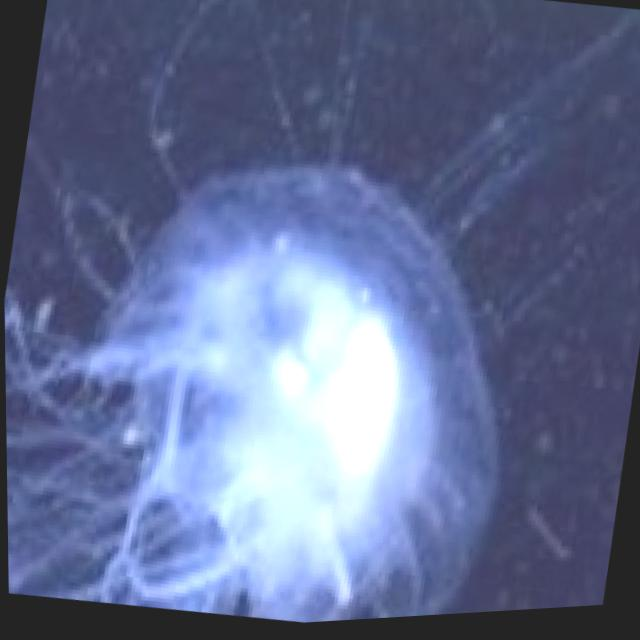Human: (42, 118, 550, 638)
